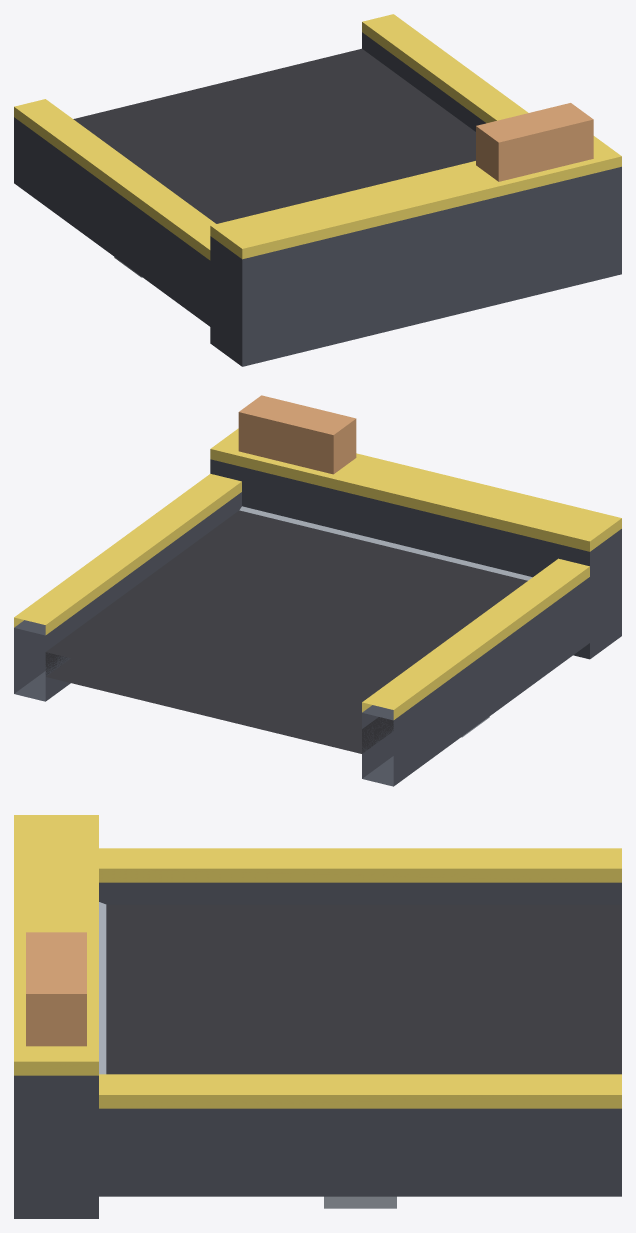
File: esteira_inicio.glb
The picture shows the model from 3 angles, top to bottom: view 1: azimuth 30°, elevation 25°; view 2: azimuth 150°, elevation 25°; view 3: azimuth 270°, elevation 25°; orthographic projection. The views are drawn at different scales.
Visible parts, largest first — view 1: EST_Inicio; view 2: EST_Inicio; view 3: EST_Inicio.
Boxes of the visible parts, x1,y1,x2,y2 form: EST_Inicio: (14,14,621,366); EST_Inicio: (14,395,621,786); EST_Inicio: (14,815,621,1218).
Size of the model in its own units: 0.96 by 0.38 by 1.
